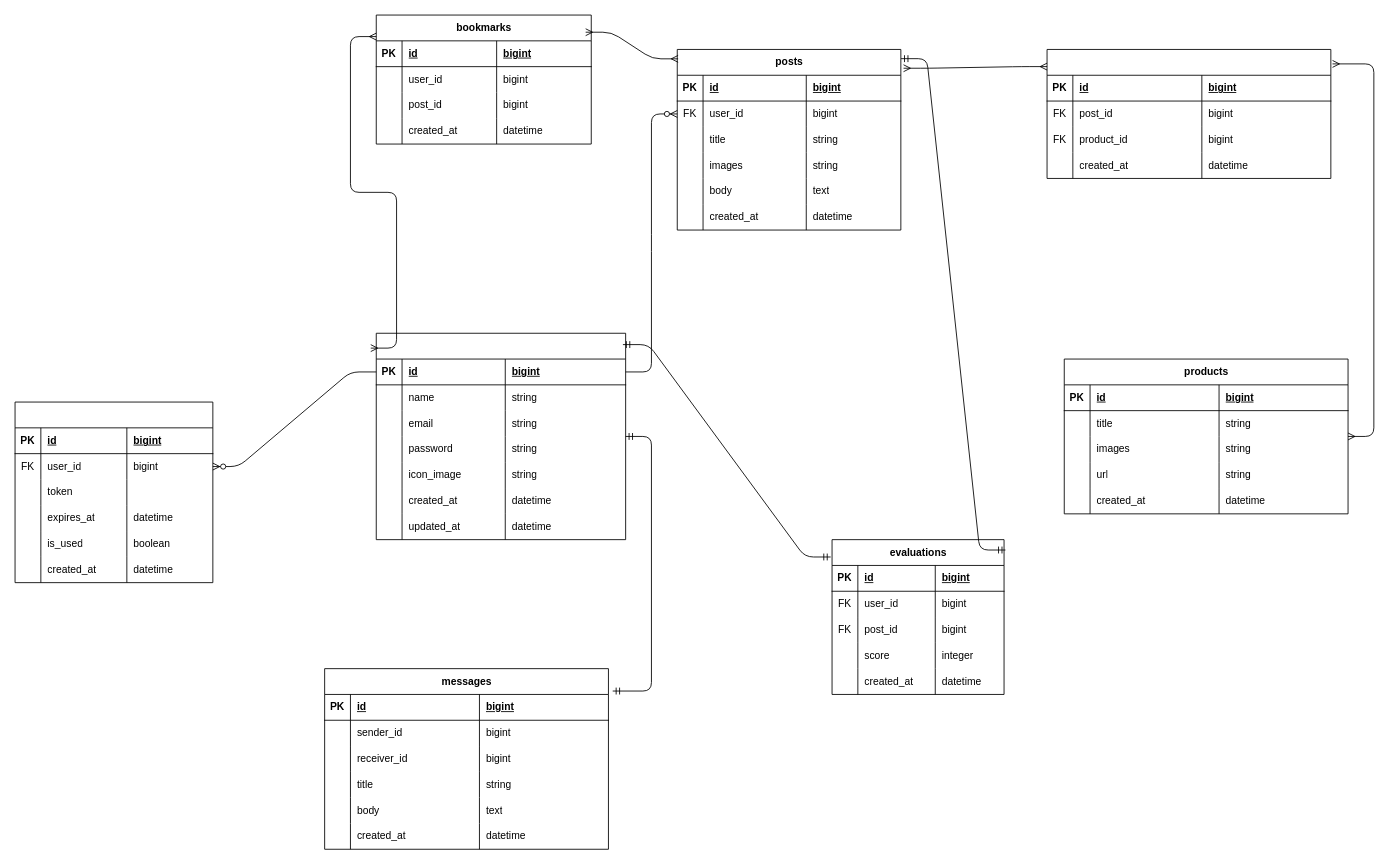
Some shapes in this 1397 by 864 pixel diagram are drawn without their labels. Each missing label, with the box of its shape:
password_reset_tokens: (14, 401, 213, 583)
post_products: (1046, 49, 1331, 178)
users: (375, 332, 626, 540)
